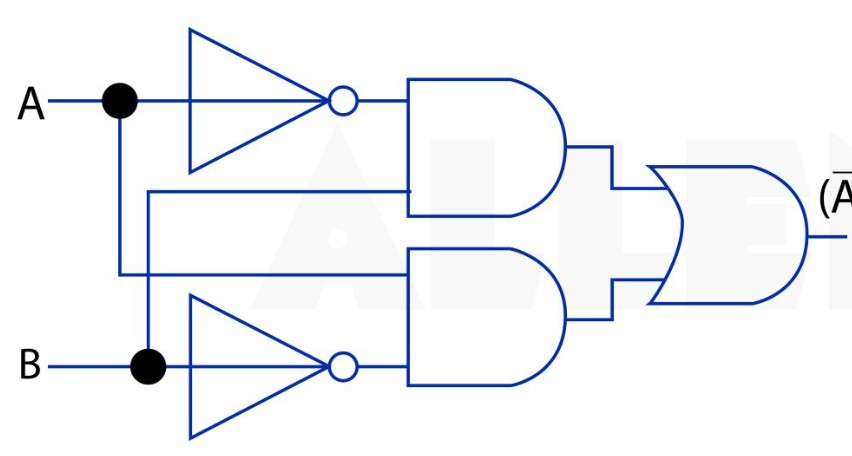and gate: (401, 243, 574, 396), (403, 73, 577, 225)
not gate: (183, 287, 369, 445), (183, 24, 367, 181)
or gate: (641, 158, 818, 315)
